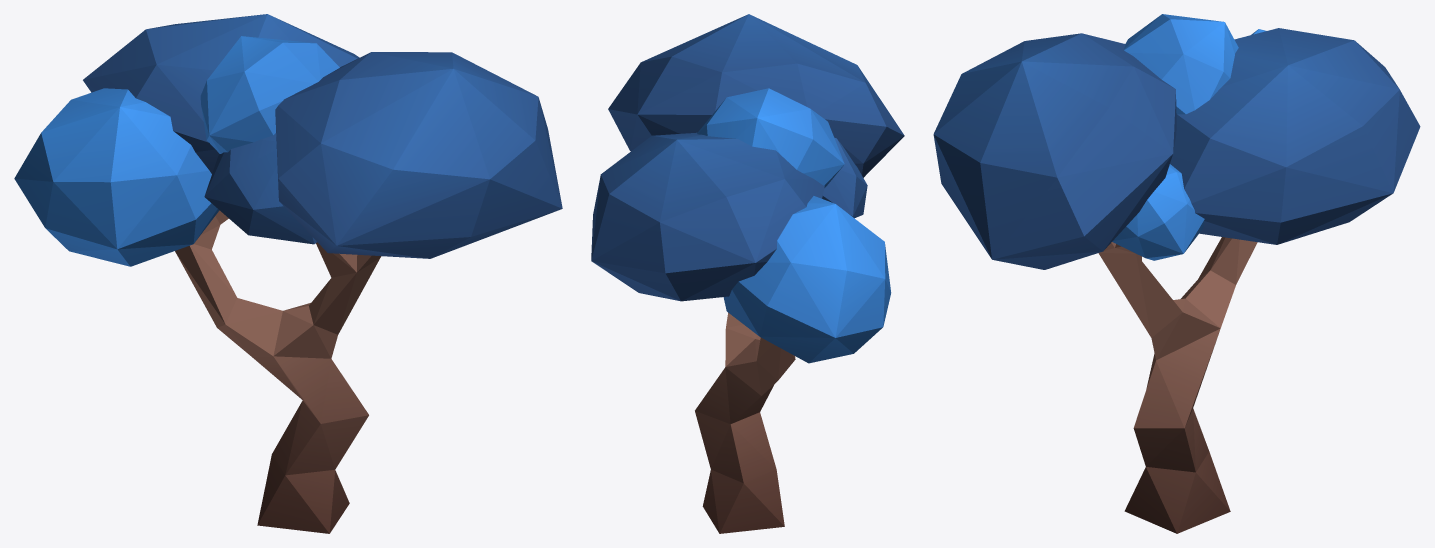
Rendered from BlueTree2.fbx.
The picture shows the model from 3 angles, left to right: view 1: azimuth 30°, elevation 25°; view 2: azimuth 150°, elevation 25°; view 3: azimuth 270°, elevation 25°; orthographic projection. The views are drawn at different scales.
Visible parts, largest first — view 1: BlueTree2; view 2: BlueTree2; view 3: BlueTree2.
Boxes of the visible parts, x1,y1,x2,y2 form: BlueTree2: (14,14,562,533); BlueTree2: (591,14,904,533); BlueTree2: (933,14,1420,533).
Bounding box in the file's own units: 404 × 463 × 421.
